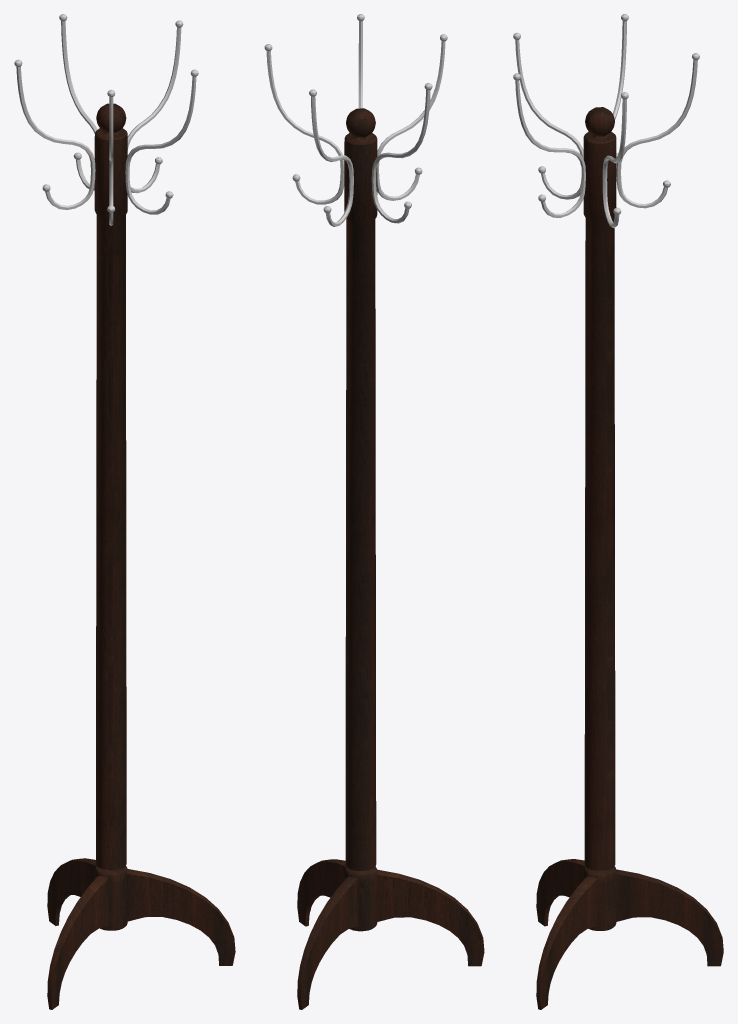
The model's file is Coat rack.FBX.
The picture shows the model from 3 angles, left to right: view 1: azimuth 30°, elevation 25°; view 2: azimuth 150°, elevation 25°; view 3: azimuth 270°, elevation 25°; orthographic projection.
Visible parts, largest first — view 1: coat rack; view 2: coat rack; view 3: coat rack.
Boxes of the visible parts, x1,y1,x2,y2 form: coat rack: (14,14,235,1009); coat rack: (264,14,484,1009); coat rack: (513,14,723,1009).
Size of the model in its own units: 38.4 by 179 by 37.47.
